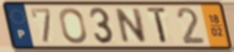2: (175, 6, 207, 46)
3: (88, 6, 117, 46)
7: (29, 7, 53, 45)
N: (115, 7, 149, 45)
O: (58, 7, 89, 45)
T: (146, 6, 169, 46)
